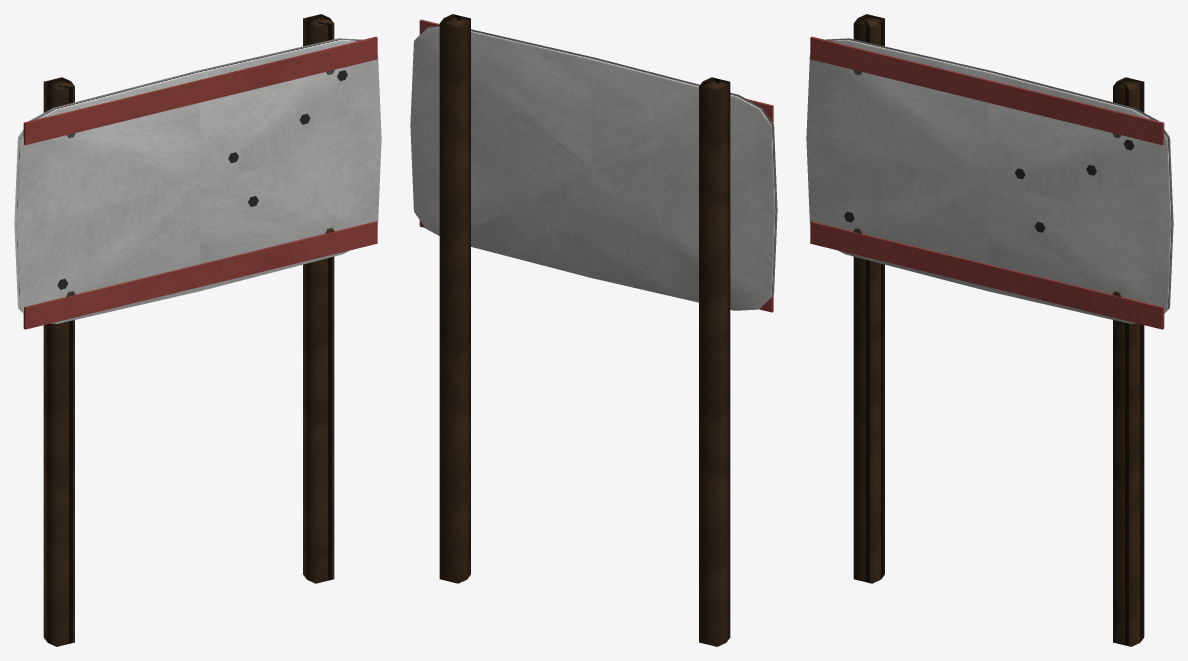
The model's file is ext_warning_sign.glb.
The picture shows the model from 3 angles, left to right: view 1: azimuth 30°, elevation 25°; view 2: azimuth 150°, elevation 25°; view 3: azimuth 330°, elevation 25°; orthographic projection.
Visible parts, largest first — view 1: detail, post-col; view 2: detail, post-col; view 3: detail, post-col.
Part boxes in pixels (x1,y1,x2,y2): detail: (14,36,381,329); post-col: (43,14,334,646); detail: (410,19,777,312); post-col: (439,14,730,646); detail: (806,36,1173,329); post-col: (853,14,1144,646).
Size of what is drawn, in the model's own units: 1.4 by 2.05 by 0.1259.
5 materials, 5 textured.
